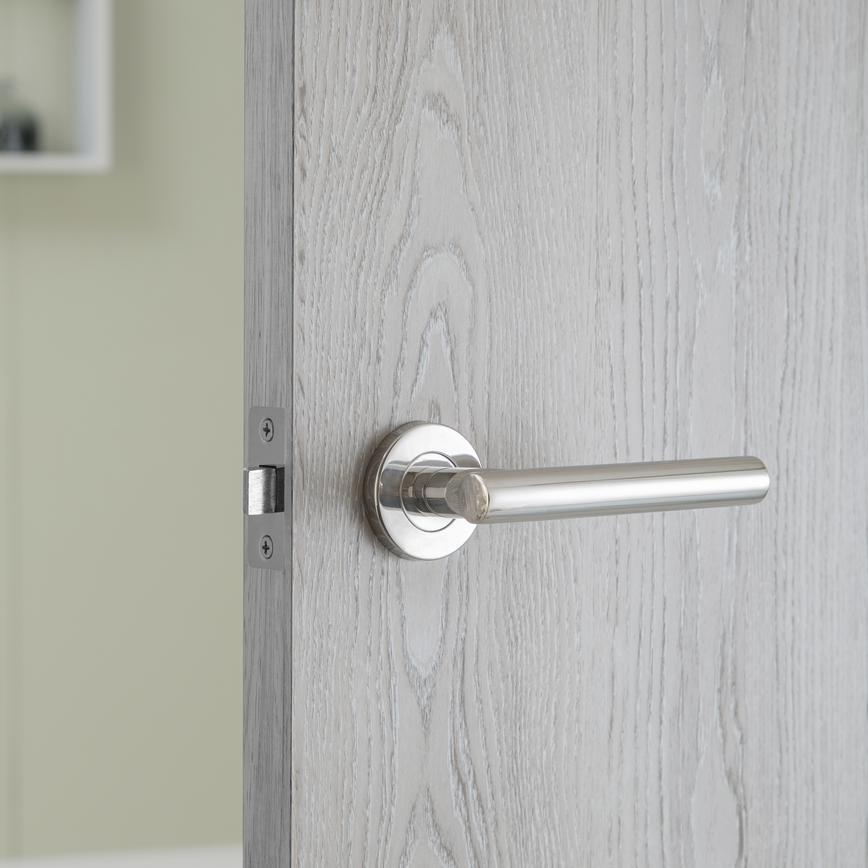doorhandle: (305, 384, 814, 586)
